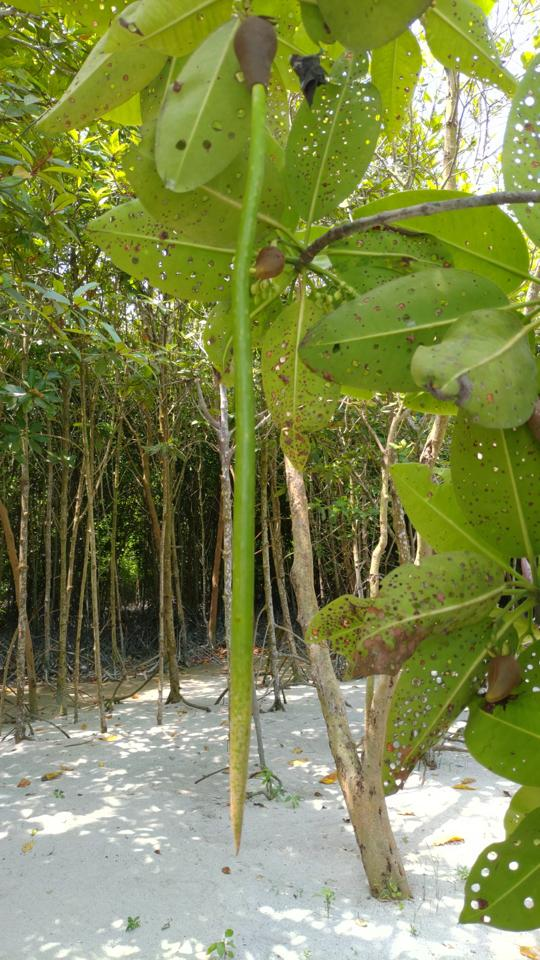mentah: (198, 8, 305, 870)
